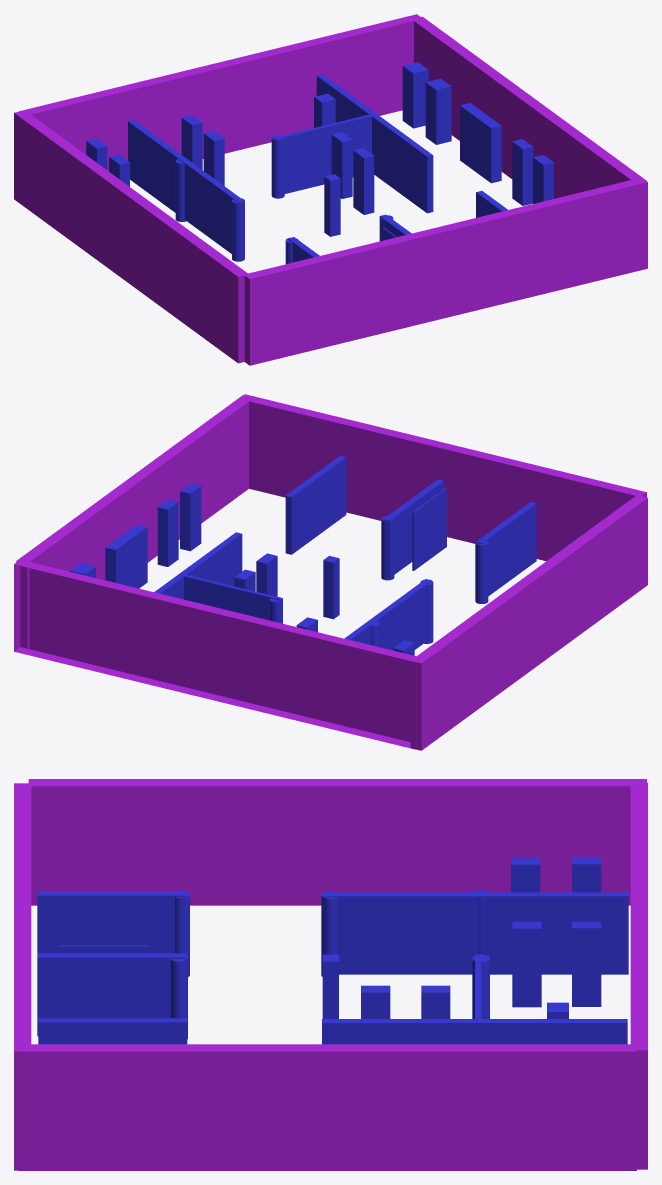
File: walls.glb
3 renders of one model, top to bottom at view 1: azimuth 30°, elevation 25°; view 2: azimuth 150°, elevation 25°; view 3: azimuth 270°, elevation 25°, orthographic. The views are drawn at different scales.
Visible parts, largest first — view 1: walls.001, walls; view 2: walls.001, walls; view 3: walls.001, walls.
Boxes of the visible parts, x1=… form: walls.001: x1=14, y1=14, x2=647, y2=365; walls: x1=86, y1=62, x2=553, y2=264; walls.001: x1=14, y1=394, x2=647, y2=750; walls: x1=70, y1=456, x2=536, y2=655; walls.001: x1=14, y1=779, x2=647, y2=1170; walls: x1=37, y1=857, x2=628, y2=1044.
Size of the model in its own units: 53.66 by 11.24 by 52.75.
